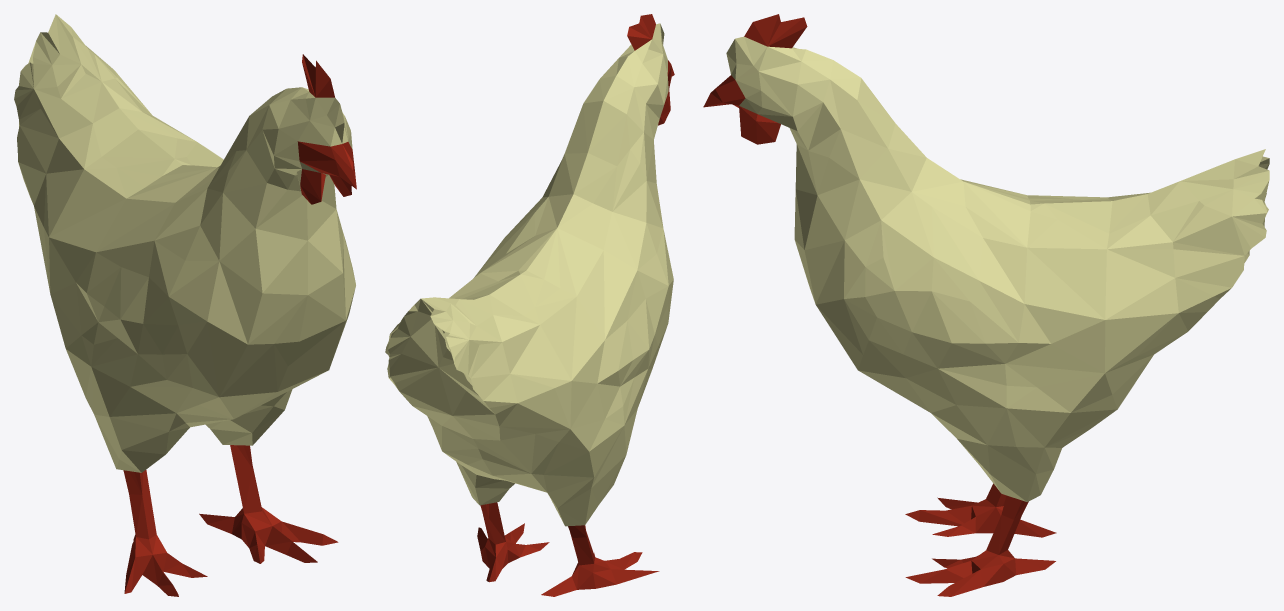
File: SM_Hen.fbx
3 views of the same model, side by side, from view 1: azimuth 30°, elevation 25°; view 2: azimuth 150°, elevation 25°; view 3: azimuth 270°, elevation 25° (orthographic). The views are drawn at different scales.
Parts seen in each view (by area): view 1: SM_Hen; view 2: SM_Hen; view 3: SM_Hen.
Boxes of the visible parts, box(x1,y1,x2,y2) form: SM_Hen: box(14, 14, 356, 596); SM_Hen: box(385, 14, 674, 596); SM_Hen: box(703, 14, 1269, 596).
Size of the model in its own units: 6.34 by 16.24 by 15.51.
